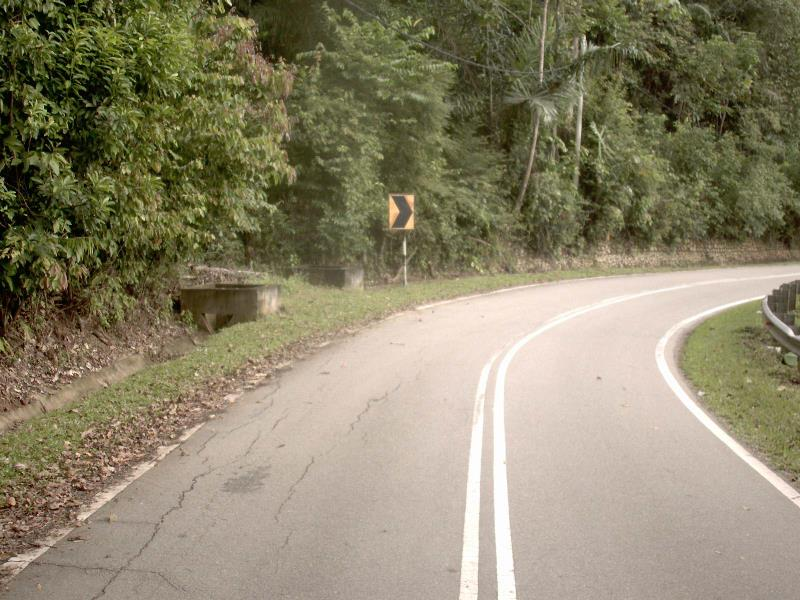traffic_sign: (379, 184, 422, 239)
